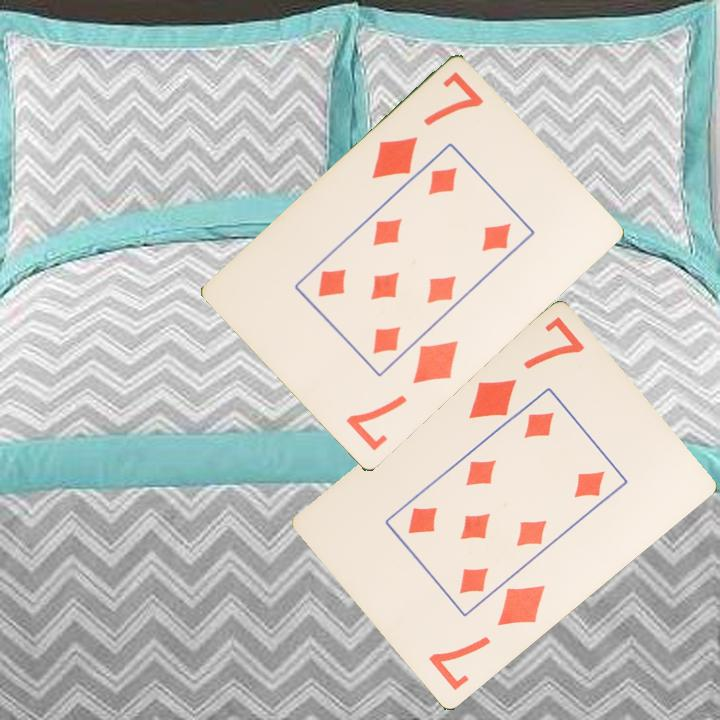7d: (342, 337, 462, 455), (425, 582, 549, 695), (368, 68, 487, 183), (465, 313, 588, 423)
